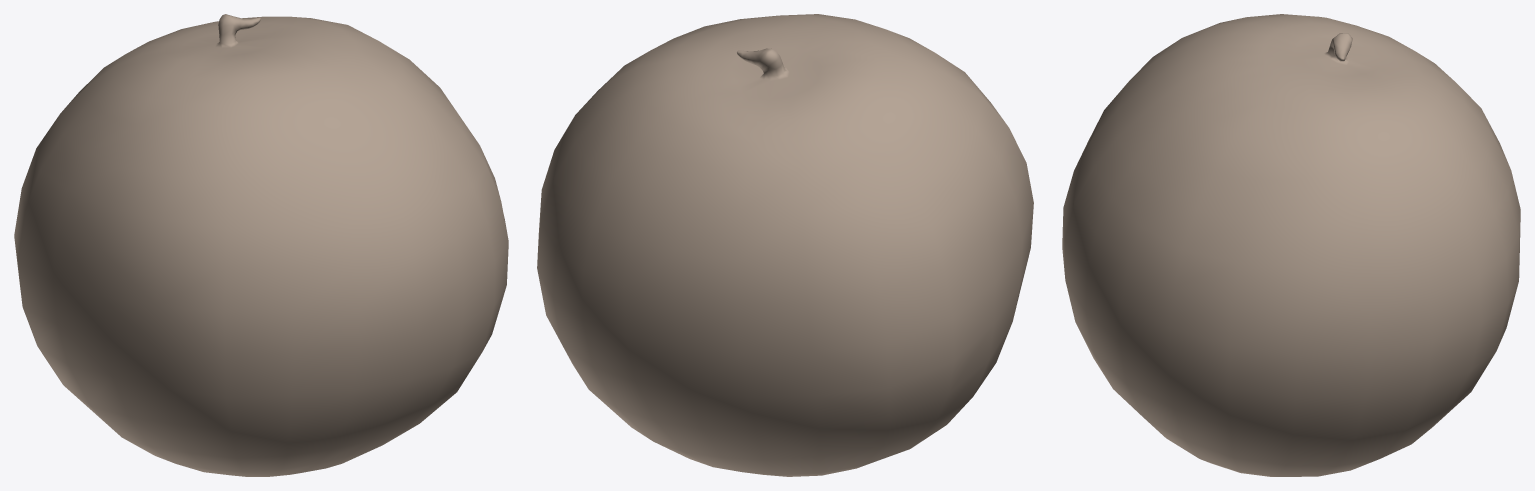
The model's file is separatedPieces08_watermelon.fbx.
3 renders of one model, left to right at view 1: azimuth 30°, elevation 25°; view 2: azimuth 150°, elevation 25°; view 3: azimuth 270°, elevation 25°, orthographic. The views are drawn at different scales.
Visible parts, largest first — view 1: watermelon_LOD0; view 2: watermelon_LOD0; view 3: watermelon_LOD0.
Boxes of the visible parts, x1=… form: watermelon_LOD0: x1=14, y1=14, x2=508, y2=476; watermelon_LOD0: x1=537, y1=14, x2=1033, y2=476; watermelon_LOD0: x1=1062, y1=14, x2=1520, y2=476.
Size of the model in its own units: 57.59 by 54.44 by 54.99.
